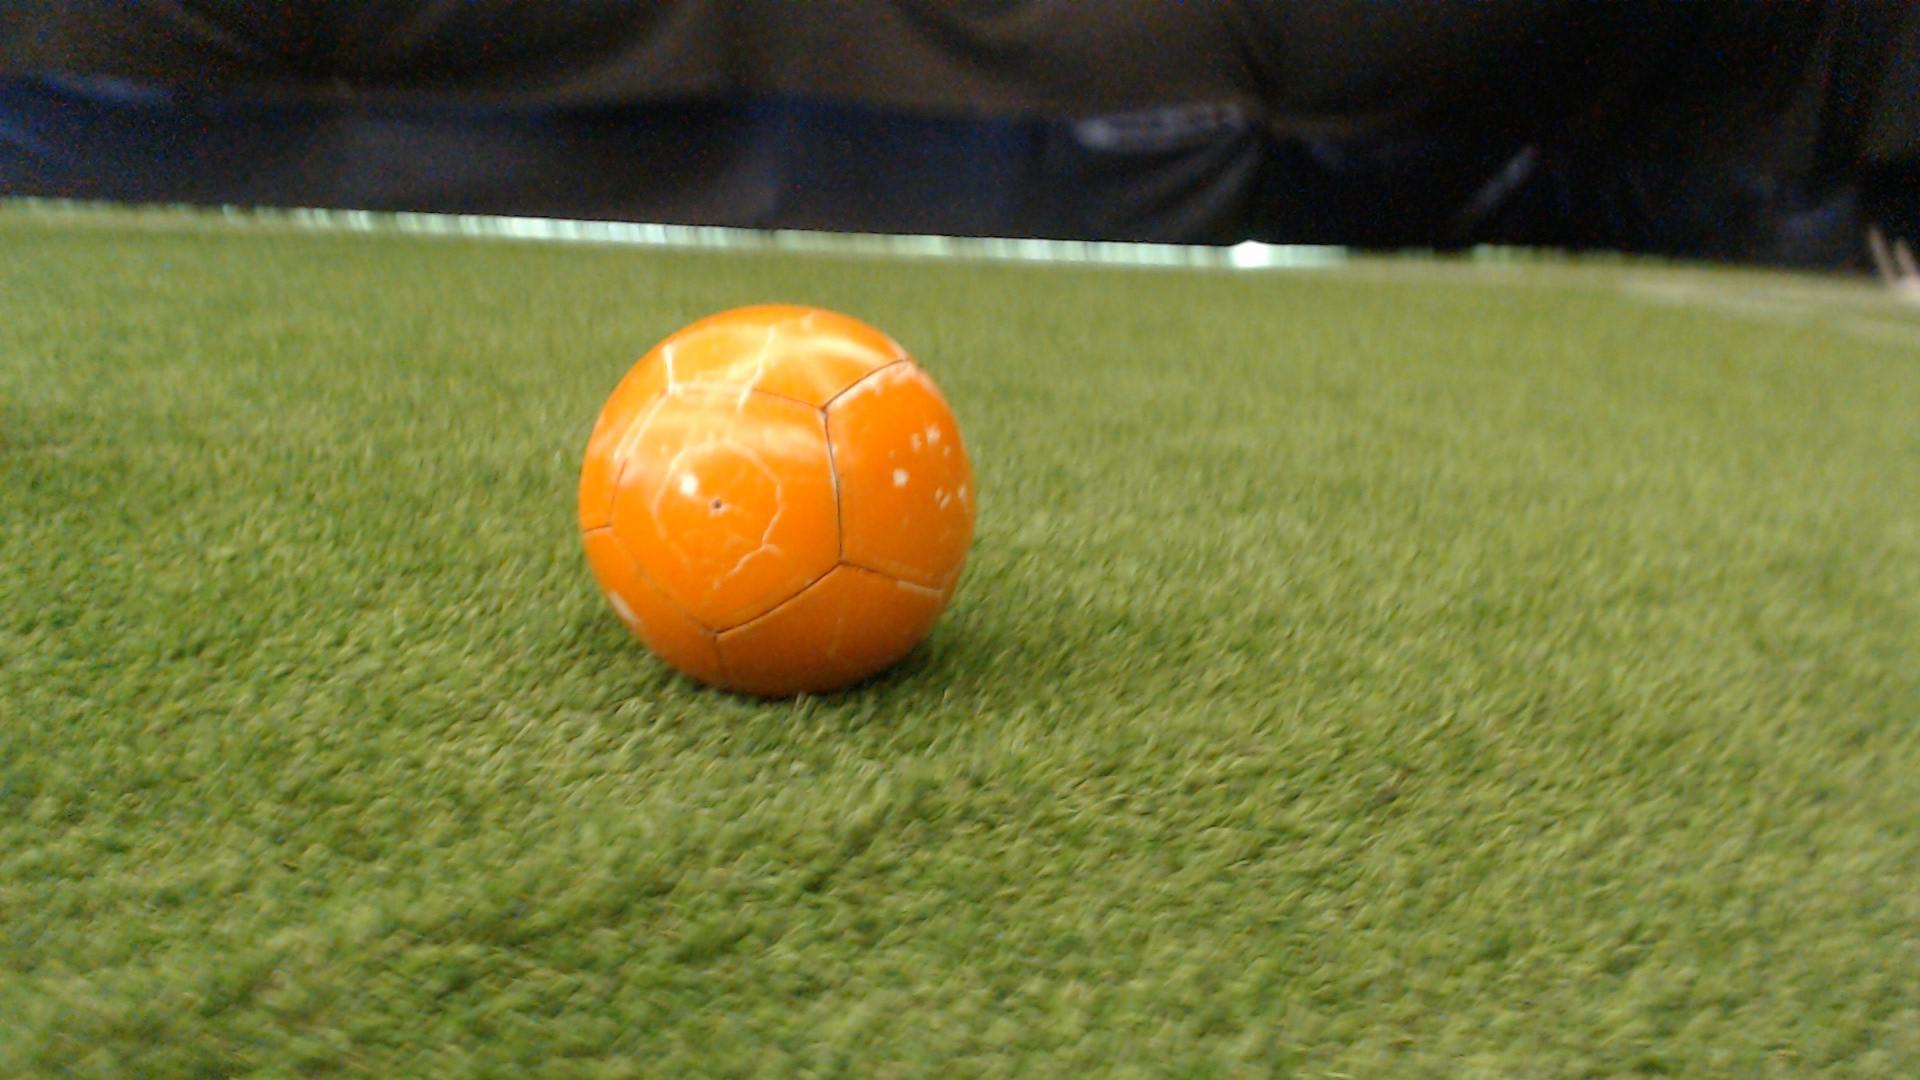bola: (541, 295, 1025, 724)
